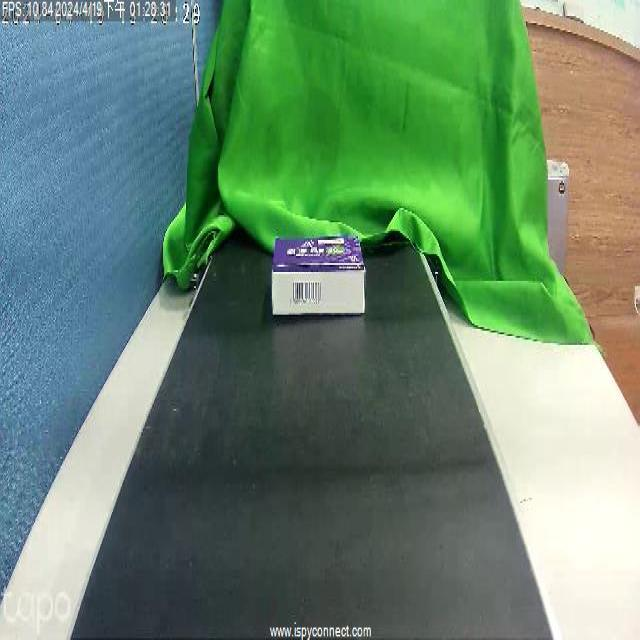box: (258, 226, 364, 340)
